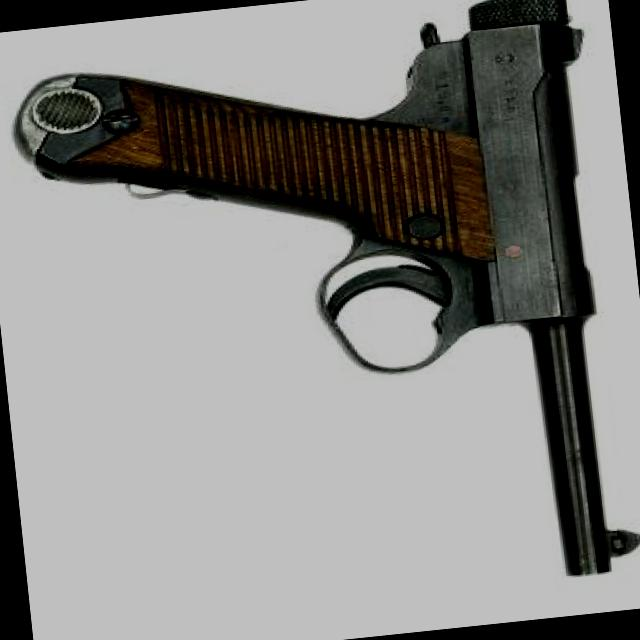handgun: (13, 0, 639, 628)
